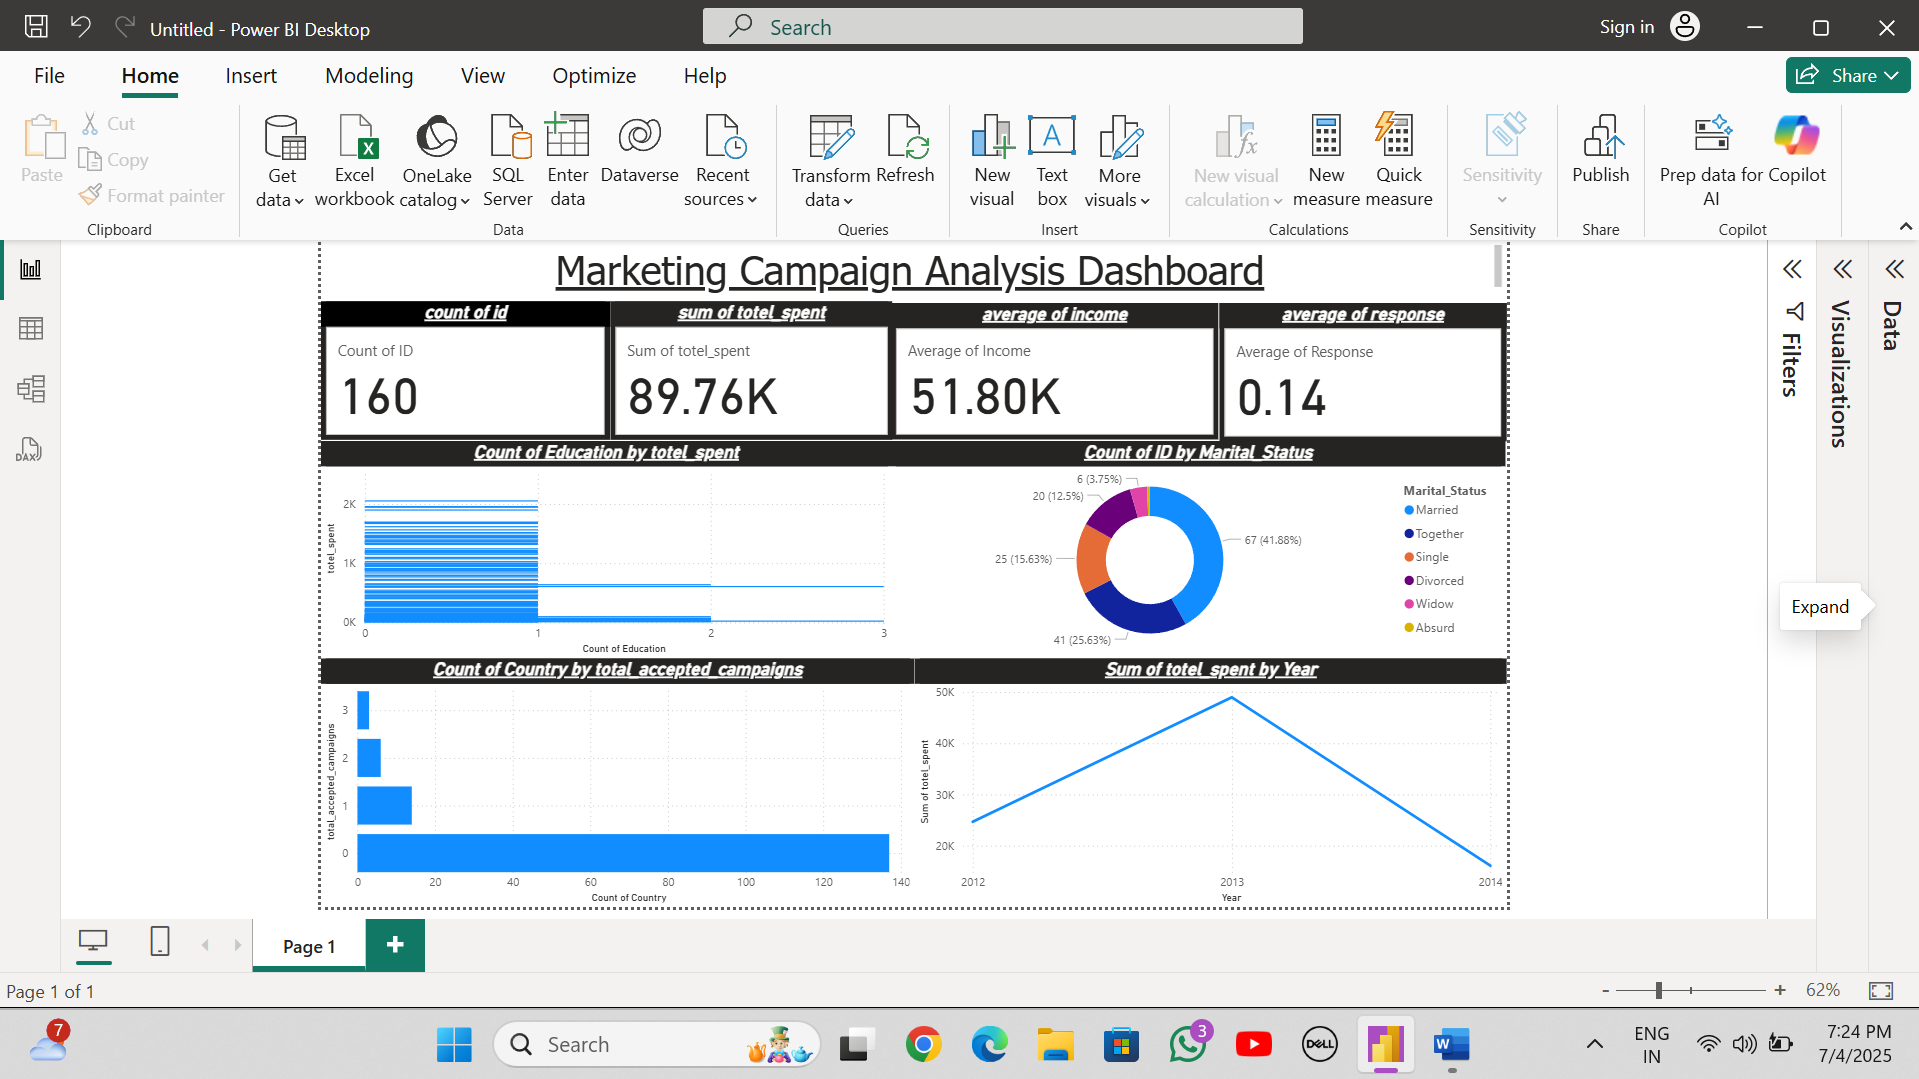

This screenshot's page, from the dashboard's own definition file:
{"tool":"powerbi","page":{"name":"Page 1","canvas":[1280,720],"ordinal":0},"visuals":[{"type":"textbox","box":[0,0,1279.4,66.1],"z":0},{"type":"cardVisual","title":"count of id","fields":{"Data":["CountNonNull(marketing_data.ID)"]},"box":[0,66.1,311.8,149.3],"z":1},{"type":"cardVisual","title":"sum of totel_spent","fields":{"Data":["Sum(marketing_data.totel_spent)"]},"box":[311.8,66.1,304.3,149.3],"z":2},{"type":"cardVisual","title":"average of income","fields":{"Data":["Avg(marketing_data.Income)"]},"box":[616.1,68,353.4,147.4],"z":3},{"type":"cardVisual","title":"average of response","fields":{"Data":["Avg(marketing_data.Response)"]},"box":[969.5,68,309.9,149.3],"z":4},{"type":"barChart","fields":{"Y":["CountNonNull(marketing_data.Education)"],"Category":["marketing_data.totel_spent"]},"box":[0,217.3,616.1,234.3],"z":5},{"type":"barChart","fields":{"Y":["CountNonNull(marketing_data.Country)"],"Category":["marketing_data.total_accepted_campaigns"]},"box":[0,451.7,640.6,268.3],"z":6},{"type":"donutChart","fields":{"Category":["marketing_data.Marital_Status"],"Y":["CountNonNull(marketing_data.ID)"]},"box":[616.1,217.3,663.3,234.3],"z":7},{"type":"lineChart","fields":{"Category":["marketing_data.Dt_Customer.Variation.Date Hierarchy.Year","marketing_data.Dt_Customer.Variation.Date Hierarchy.Quarter","marketing_data.Dt_Customer.Variation.Date Hierarchy.Month","marketing_data.Dt_Customer.Variation.Date Hierarchy.Day"],"Y":["Sum(marketing_data.totel_spent)"]},"box":[640.6,451.7,638.7,268.3],"z":8}]}

Visuals, with their boxes on the page's 1280x720 design canvas (x1, y1, x2, y2). These are canvas units, not pixel positions in the 1919x1079 screenshot, which may show the page scaled, cropped or inside an application window:
textbox: <bbox>0, 0, 1279, 66</bbox>
"count of id" cardVisual: <bbox>0, 66, 312, 215</bbox>
"sum of totel_spent" cardVisual: <bbox>312, 66, 616, 215</bbox>
"average of income" cardVisual: <bbox>616, 68, 970, 215</bbox>
"average of response" cardVisual: <bbox>970, 68, 1279, 217</bbox>
barChart - CountNonNull(marketing_data.Education) x marketing_data.totel_spent: <bbox>0, 217, 616, 452</bbox>
barChart - CountNonNull(marketing_data.Country) x marketing_data.total_accepted_campaigns: <bbox>0, 452, 641, 720</bbox>
donutChart - marketing_data.Marital_Status x CountNonNull(marketing_data.ID): <bbox>616, 217, 1279, 452</bbox>
lineChart - marketing_data.Dt_Customer.Variation.Date Hierarchy.Year x marketing_data.Dt_Customer.Variation.Date Hierarchy.Quarter: <bbox>641, 452, 1279, 720</bbox>
